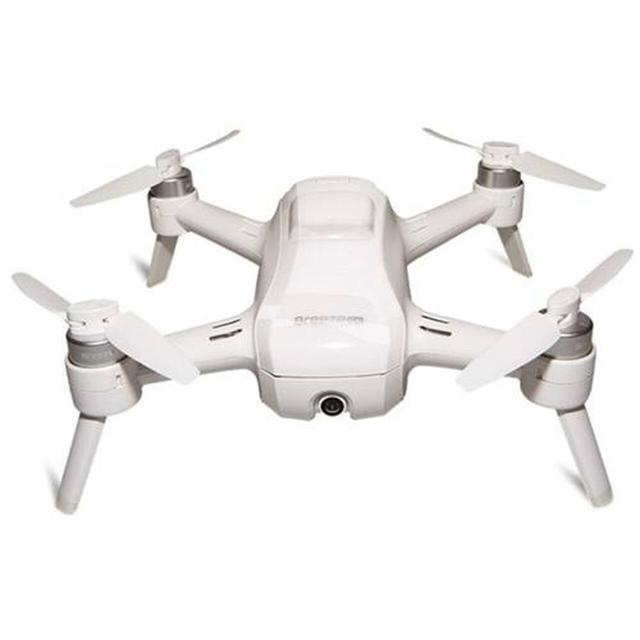drone: (8, 124, 633, 516)
